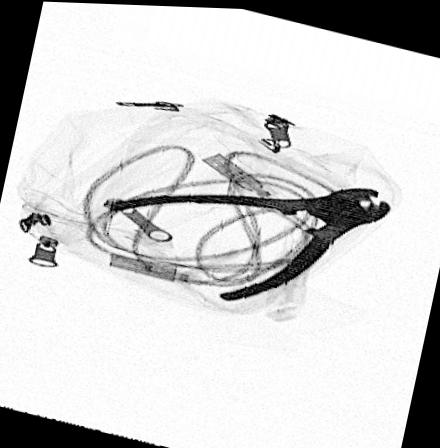Pliers: (107, 184, 393, 301)
